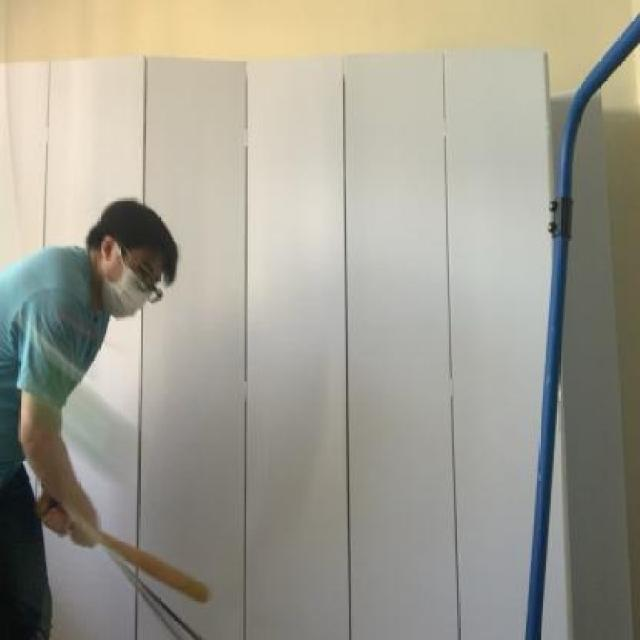baseball: (24, 339, 159, 496)
